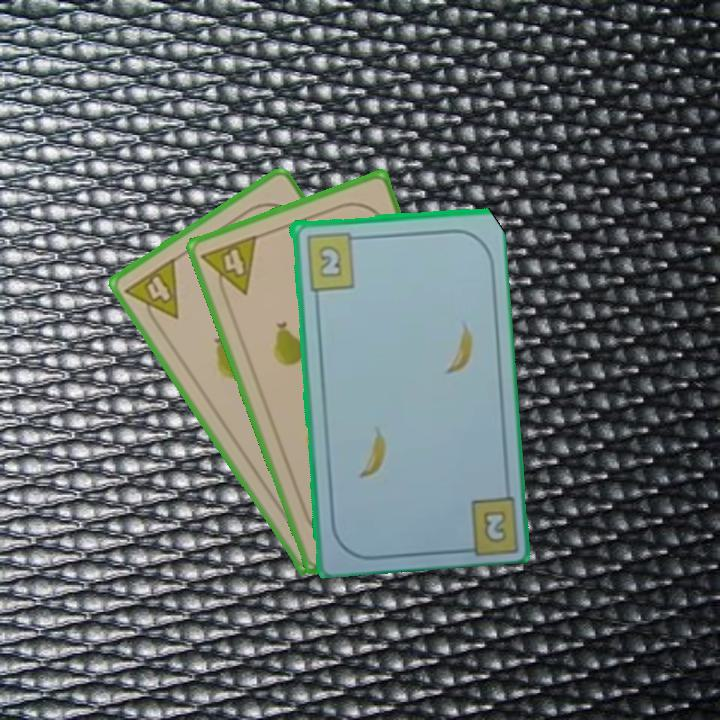2b: (302, 228, 364, 293), (479, 506, 510, 546)
4p: (121, 254, 182, 333), (197, 231, 260, 304)
